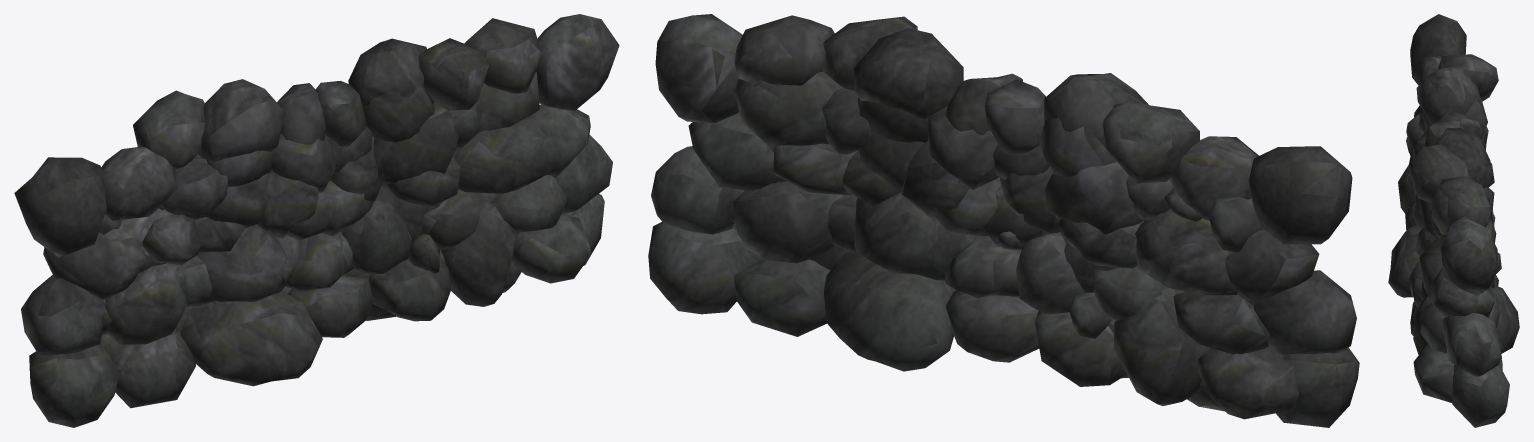
Rendered from RockWall.glb.
3 renders of one model, left to right at view 1: azimuth 30°, elevation 25°; view 2: azimuth 150°, elevation 25°; view 3: azimuth 270°, elevation 25°, orthographic. The views are drawn at different scales.
Parts seen in each view (by area): view 1: Cube.001; view 2: Cube.001; view 3: Cube.001.
Boxes of the visible parts, box(x1,y1,x2,y2) form: Cube.001: box(14, 14, 619, 427); Cube.001: box(648, 14, 1359, 427); Cube.001: box(1388, 14, 1519, 427).
Bounding box in the file's own units: 25.48 × 11.45 × 6.09.
Materials: 1 (1 with a texture image).
